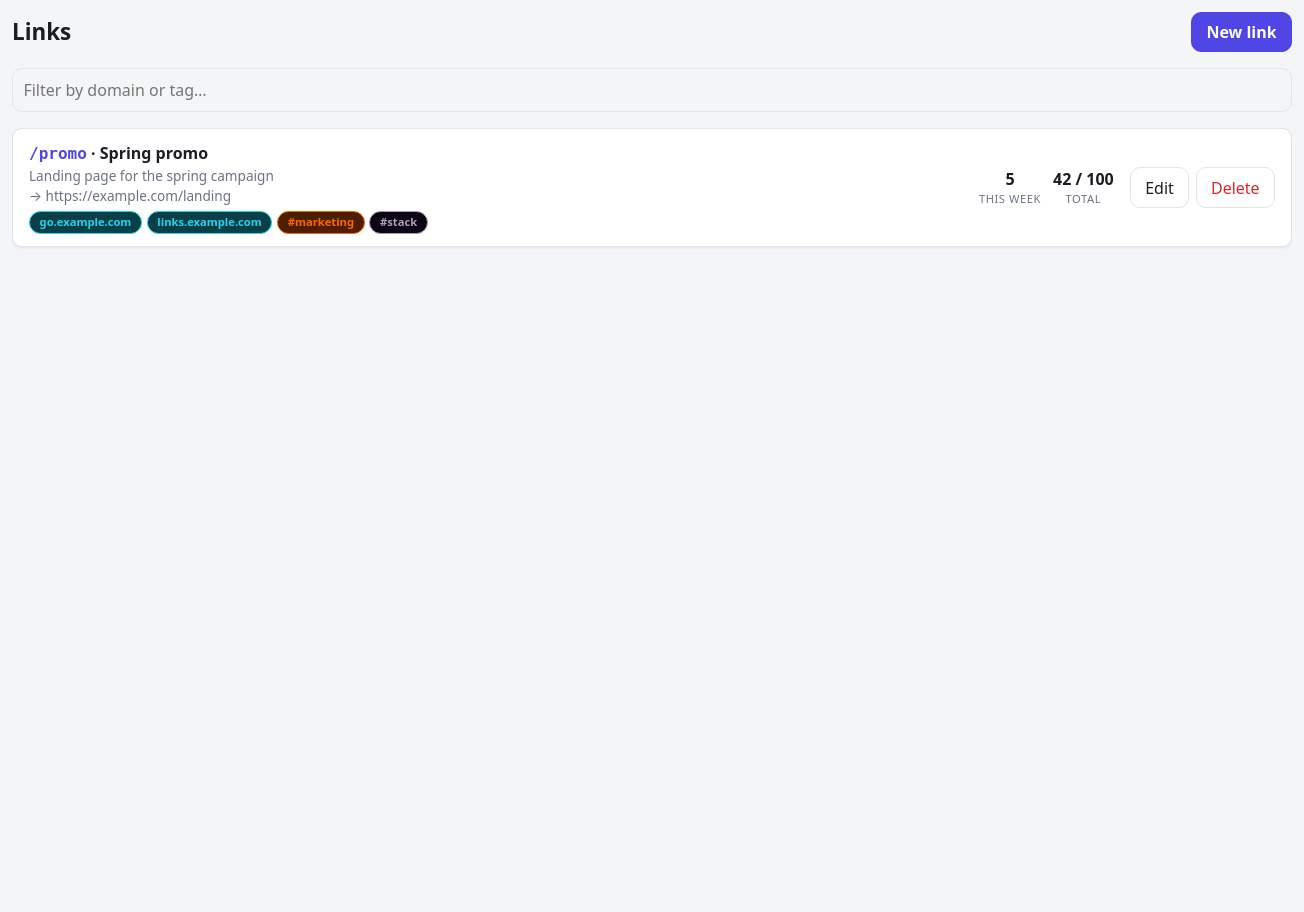
ShortCodes › collapses the stats on a second click
Expected: the text "Spring promo" is shown, [91,142,208,164]
Click the button "promo" at [652, 188], box [12,128,1292,247]
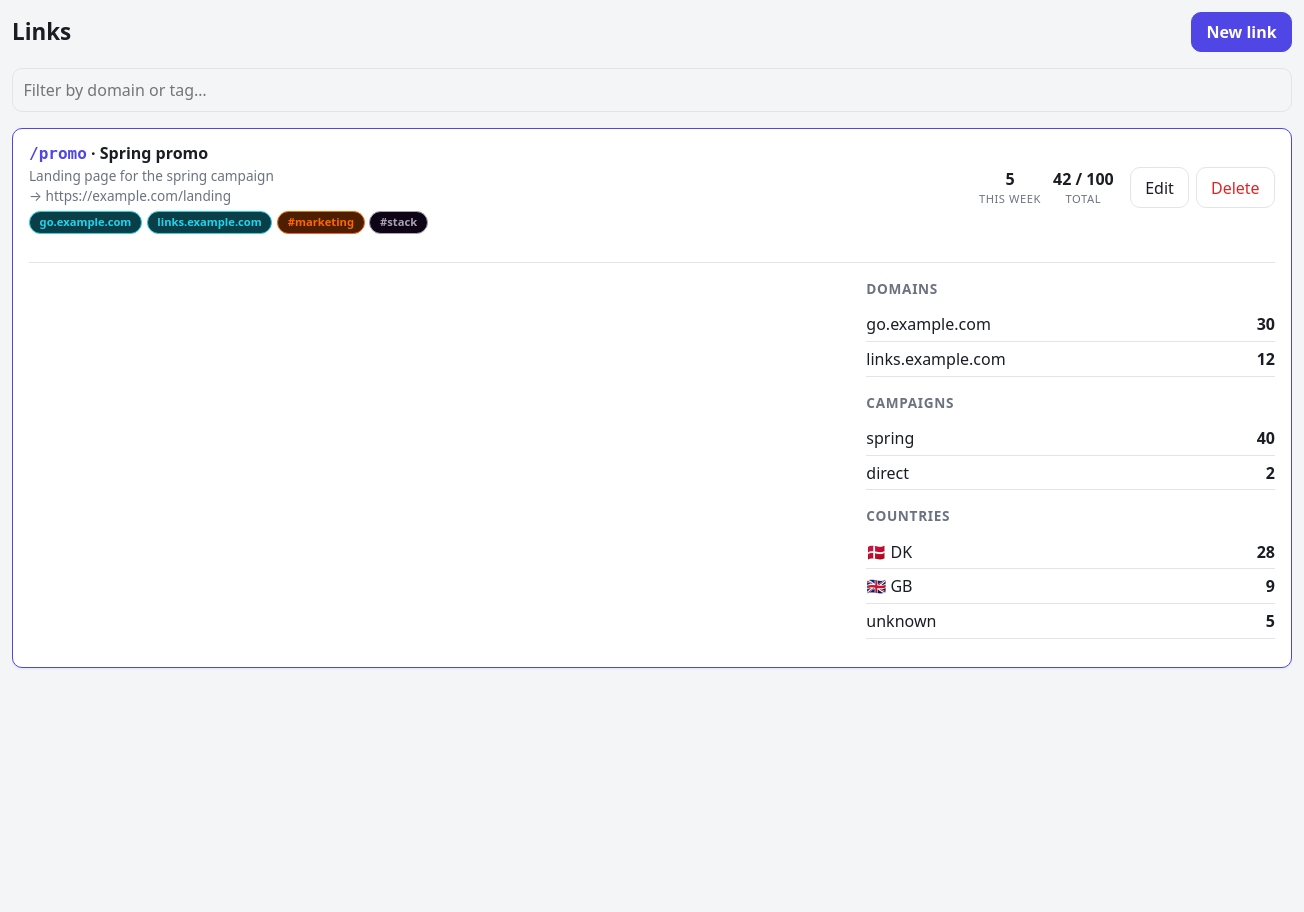
Click the button "promo" at [652, 398], box [12,128,1292,668]
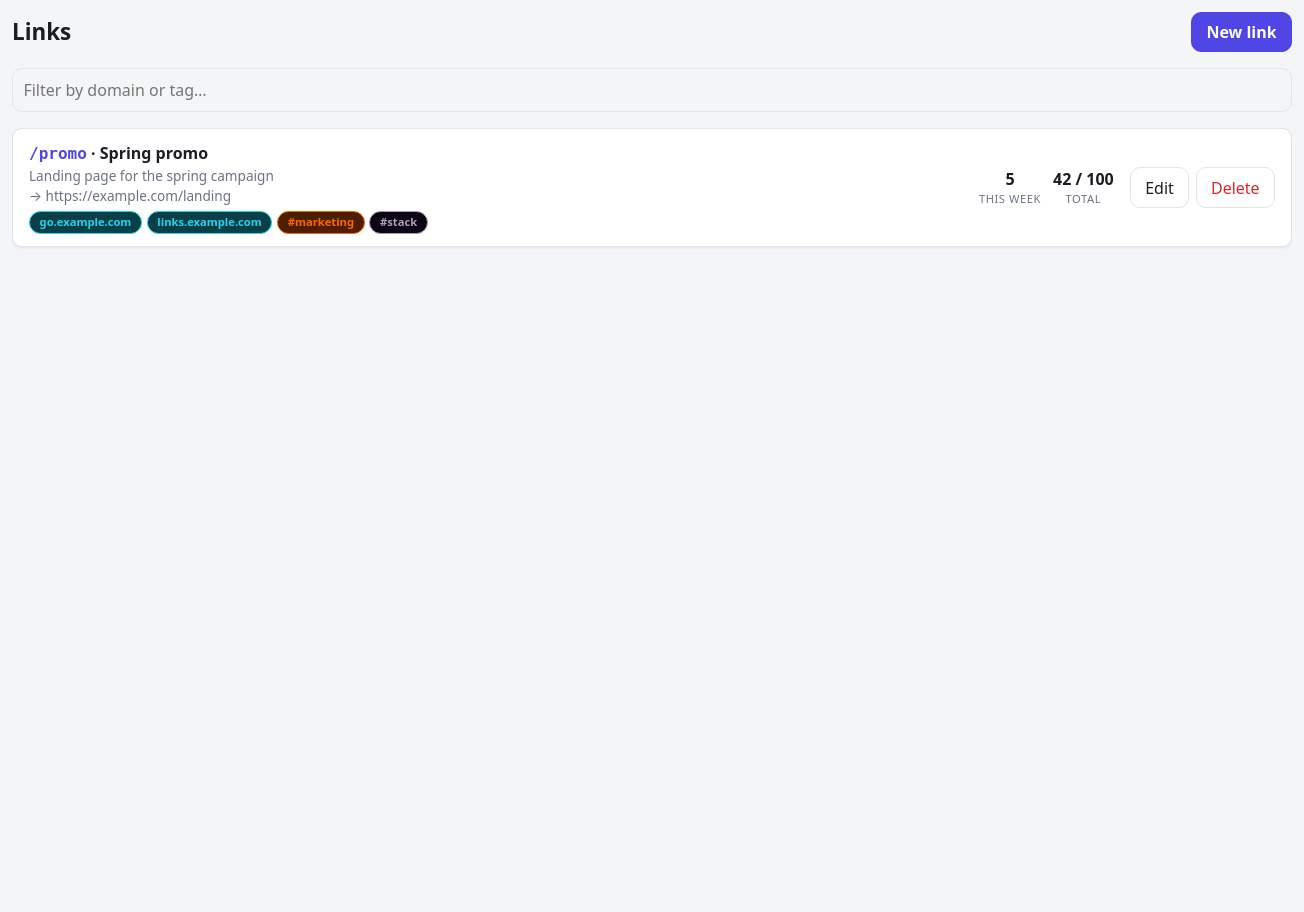
Now the element with class "row-stats" is gone
